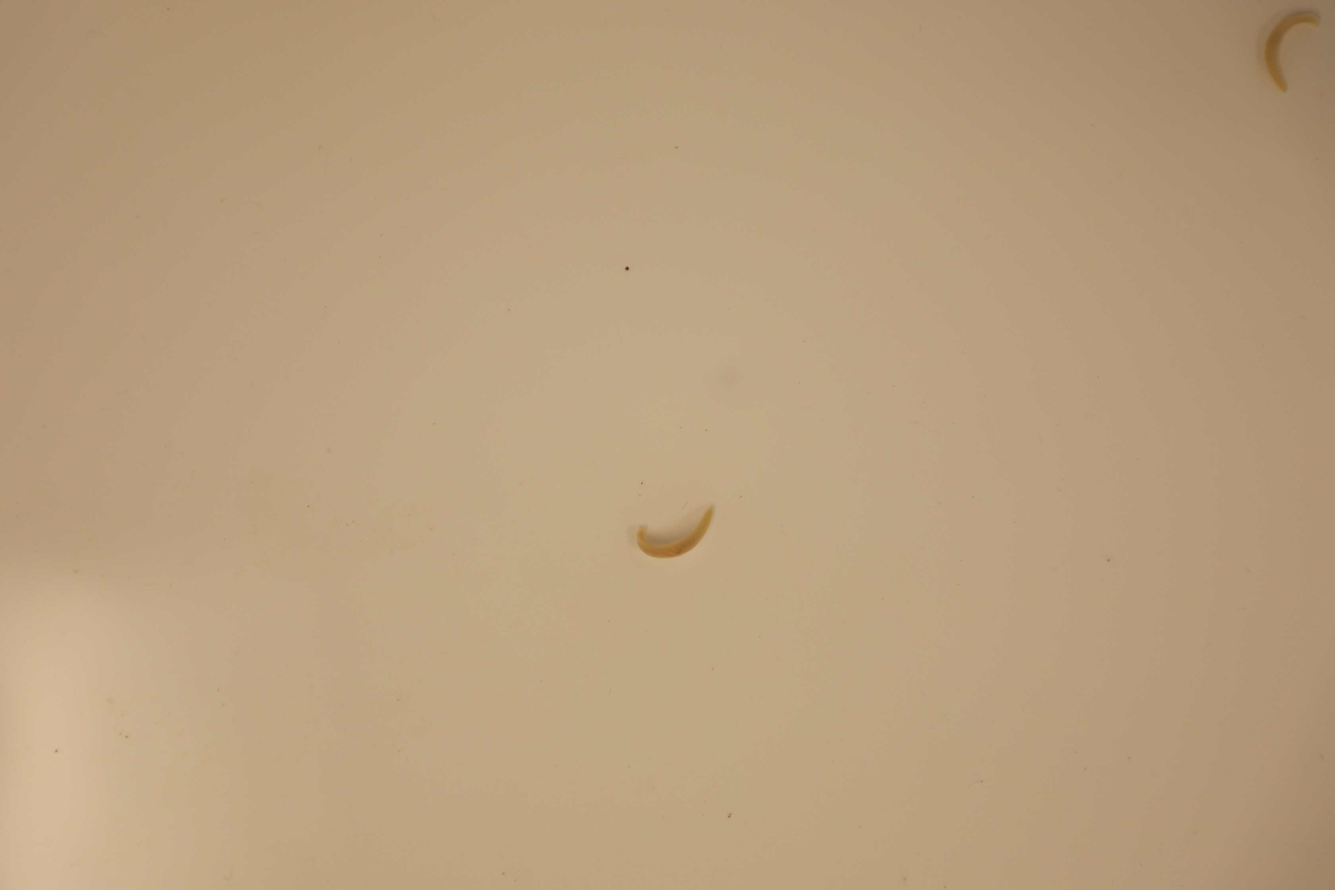Cadisfly: (1256, 10, 1320, 93), (629, 508, 716, 564)
